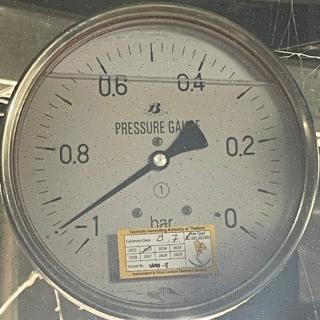gauge: (0, 0, 320, 320), (59, 204, 110, 254), (227, 212, 260, 244), (147, 149, 171, 171), (56, 218, 72, 234)
